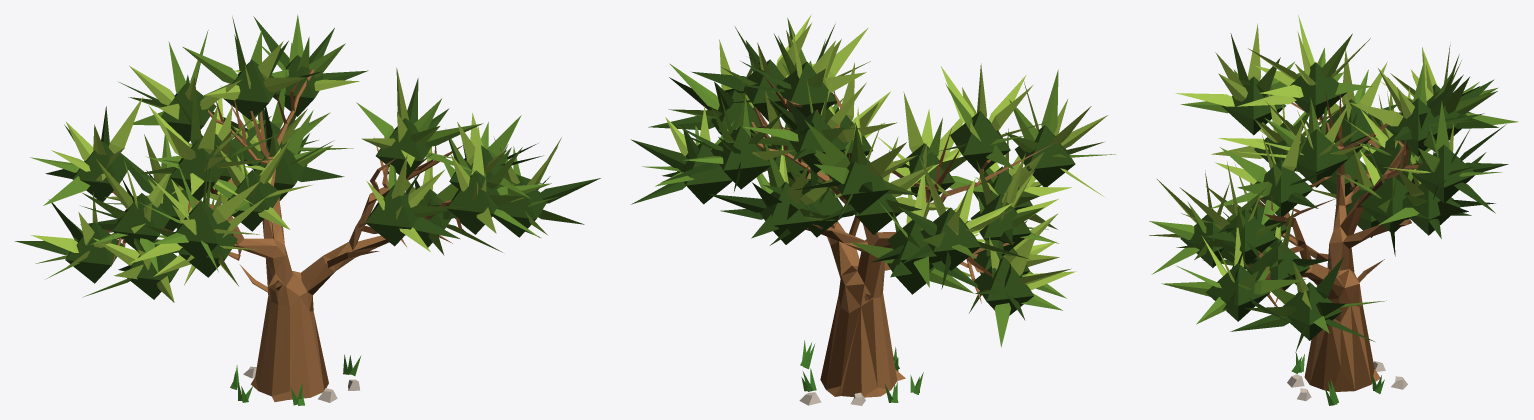
Rendered from dragon_tree_bloom.glb.
The picture shows the model from 3 angles, left to right: view 1: azimuth 30°, elevation 25°; view 2: azimuth 150°, elevation 25°; view 3: azimuth 270°, elevation 25°; orthographic projection. The views are drawn at different scales.
Visible parts, largest first — view 1: dragon_tree_bloom; view 2: dragon_tree_bloom; view 3: dragon_tree_bloom.
Boxes of the visible parts, bbox=[...] form: dragon_tree_bloom: bbox=[14, 14, 600, 405]; dragon_tree_bloom: bbox=[631, 14, 1115, 405]; dragon_tree_bloom: bbox=[1149, 15, 1518, 405].
Bounding box in the file's own units: 10.91 × 7 × 7.68.
